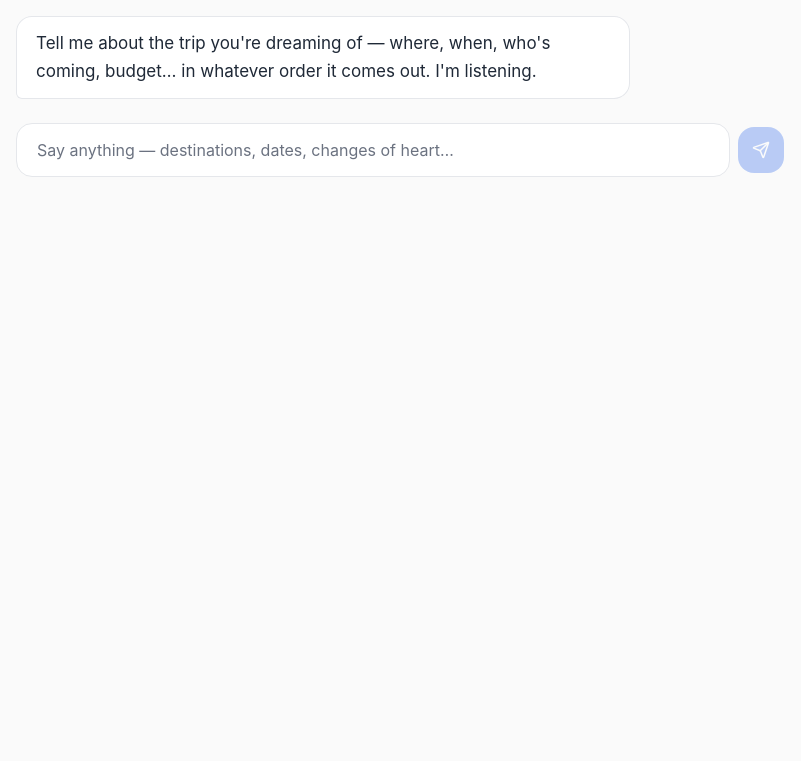
Scenario: the calendar in the chat › offers "Open calendar" under the dates question, closed until clicked; typing still answers
Type "london" into the field with placeholder "Say anything — destinations, dates, changes of heart…".
click(373, 150); type("london")  # box left=16, top=123, right=730, bottom=177
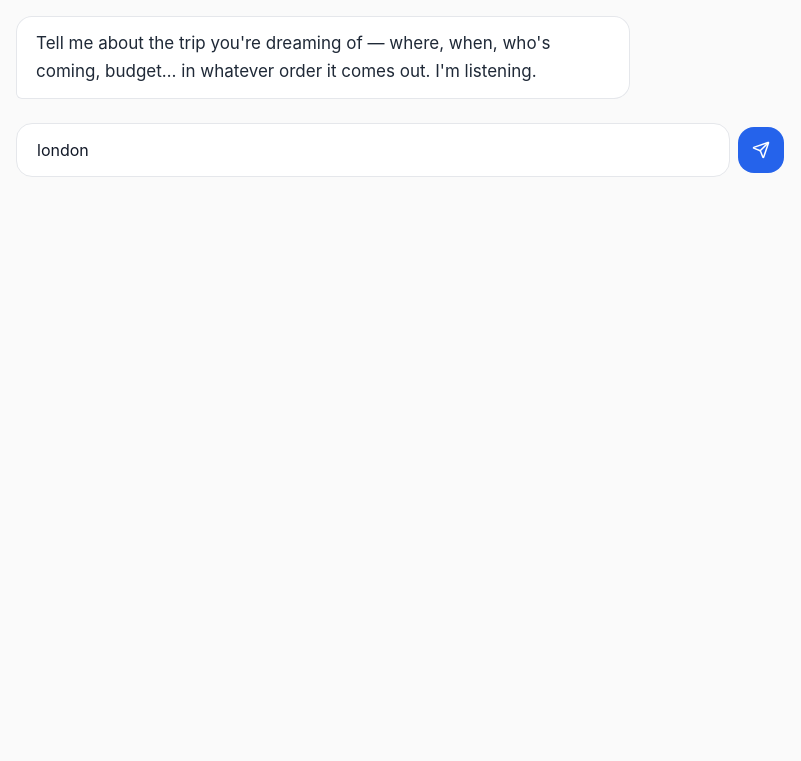
Submit the form with placeholder "Say anything", box left=16, top=123, right=784, bottom=177
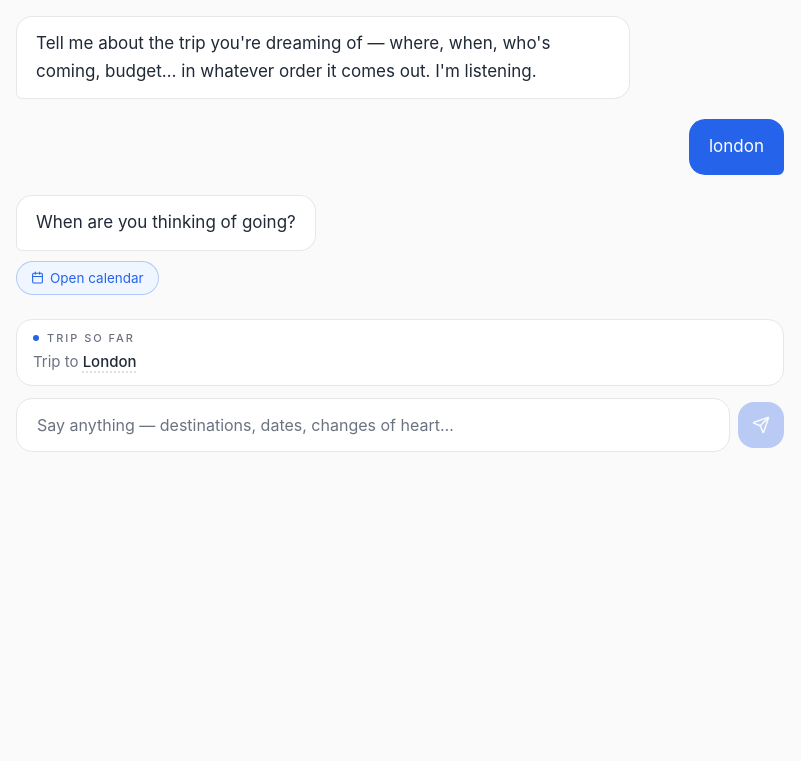
Click the button "Open calendar".
click(87, 278)  # box left=16, top=260, right=159, bottom=295
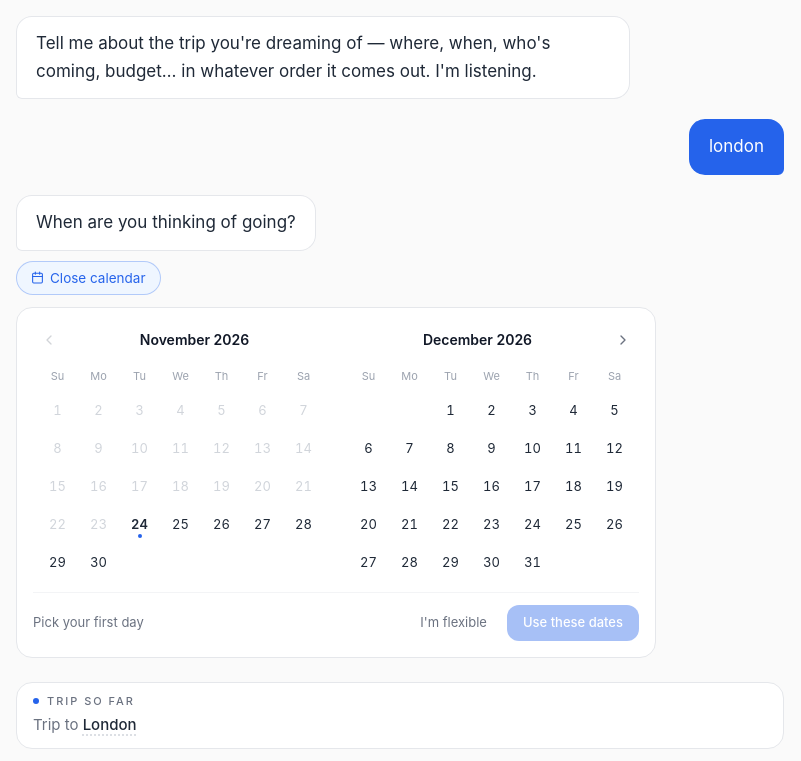
Result: the element with test id "date-range-calendar" is shown at left=16, top=307, right=656, bottom=658
Click the button "Close calendar".
click(88, 278)  # box left=16, top=260, right=160, bottom=295
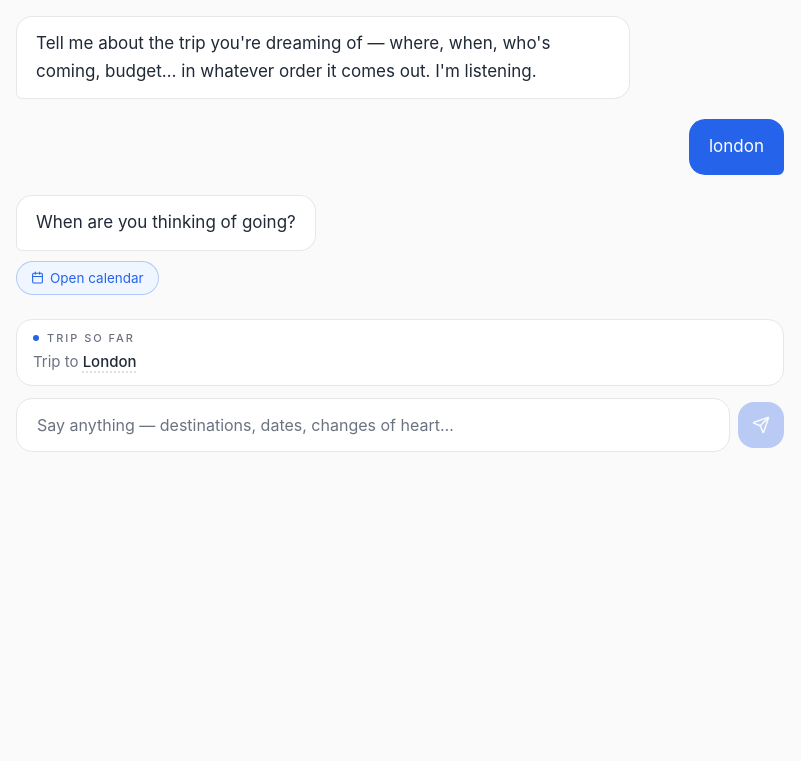
Result: the element with test id "date-range-calendar" is gone
Type "mid december for a week" into the field with placeholder "Say anything — destinations, dates, changes of heart…".
click(373, 425); type("mid december for a week")  # box left=16, top=398, right=730, bottom=452
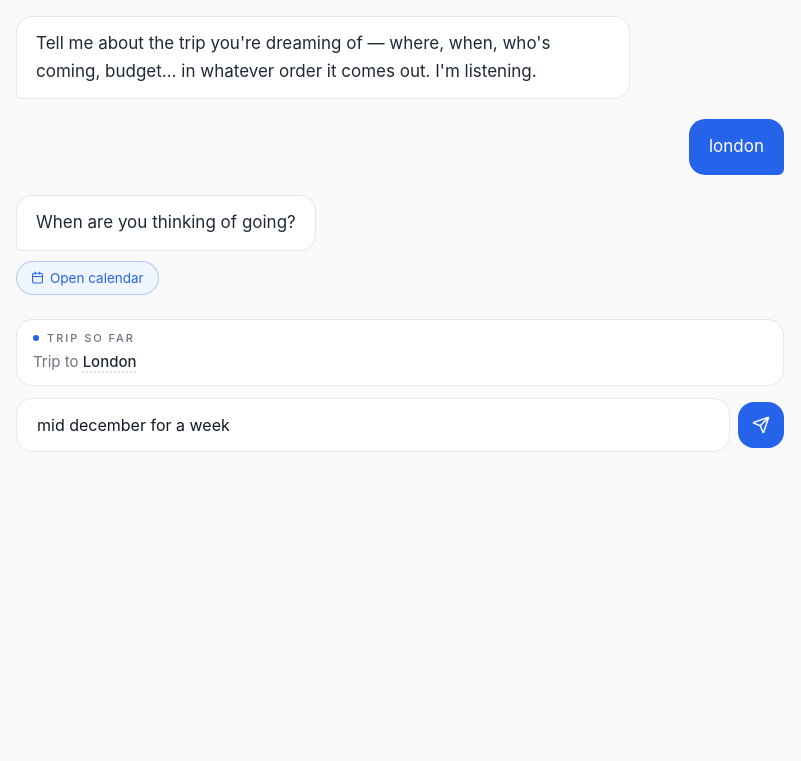
Submit the form with placeholder "Say anything", box left=16, top=398, right=784, bottom=452
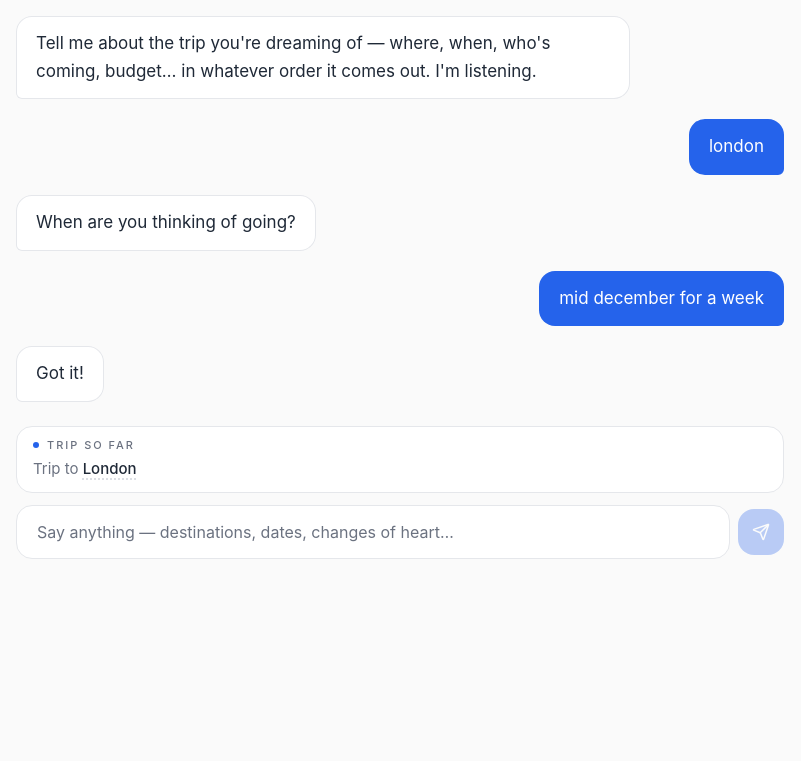
Result: the text "mid december for a week" is shown at left=539, top=270, right=784, bottom=326
Result: the button "Open calendar" is gone
